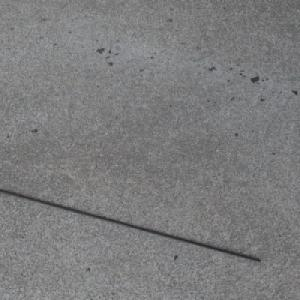LuggagePart: (0, 187, 262, 263)
